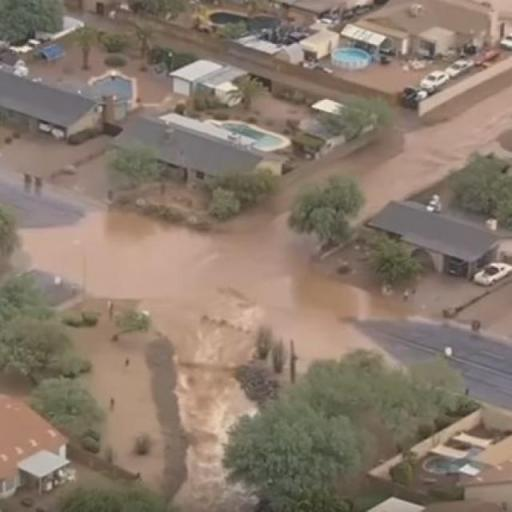flood: (20, 80, 512, 512), (23, 10, 237, 104), (72, 315, 165, 490), (0, 126, 112, 200), (409, 272, 491, 316), (224, 91, 307, 132), (462, 283, 511, 336)
house: (361, 196, 511, 281), (119, 116, 290, 188), (0, 392, 75, 506), (5, 69, 97, 140), (174, 59, 230, 100)
